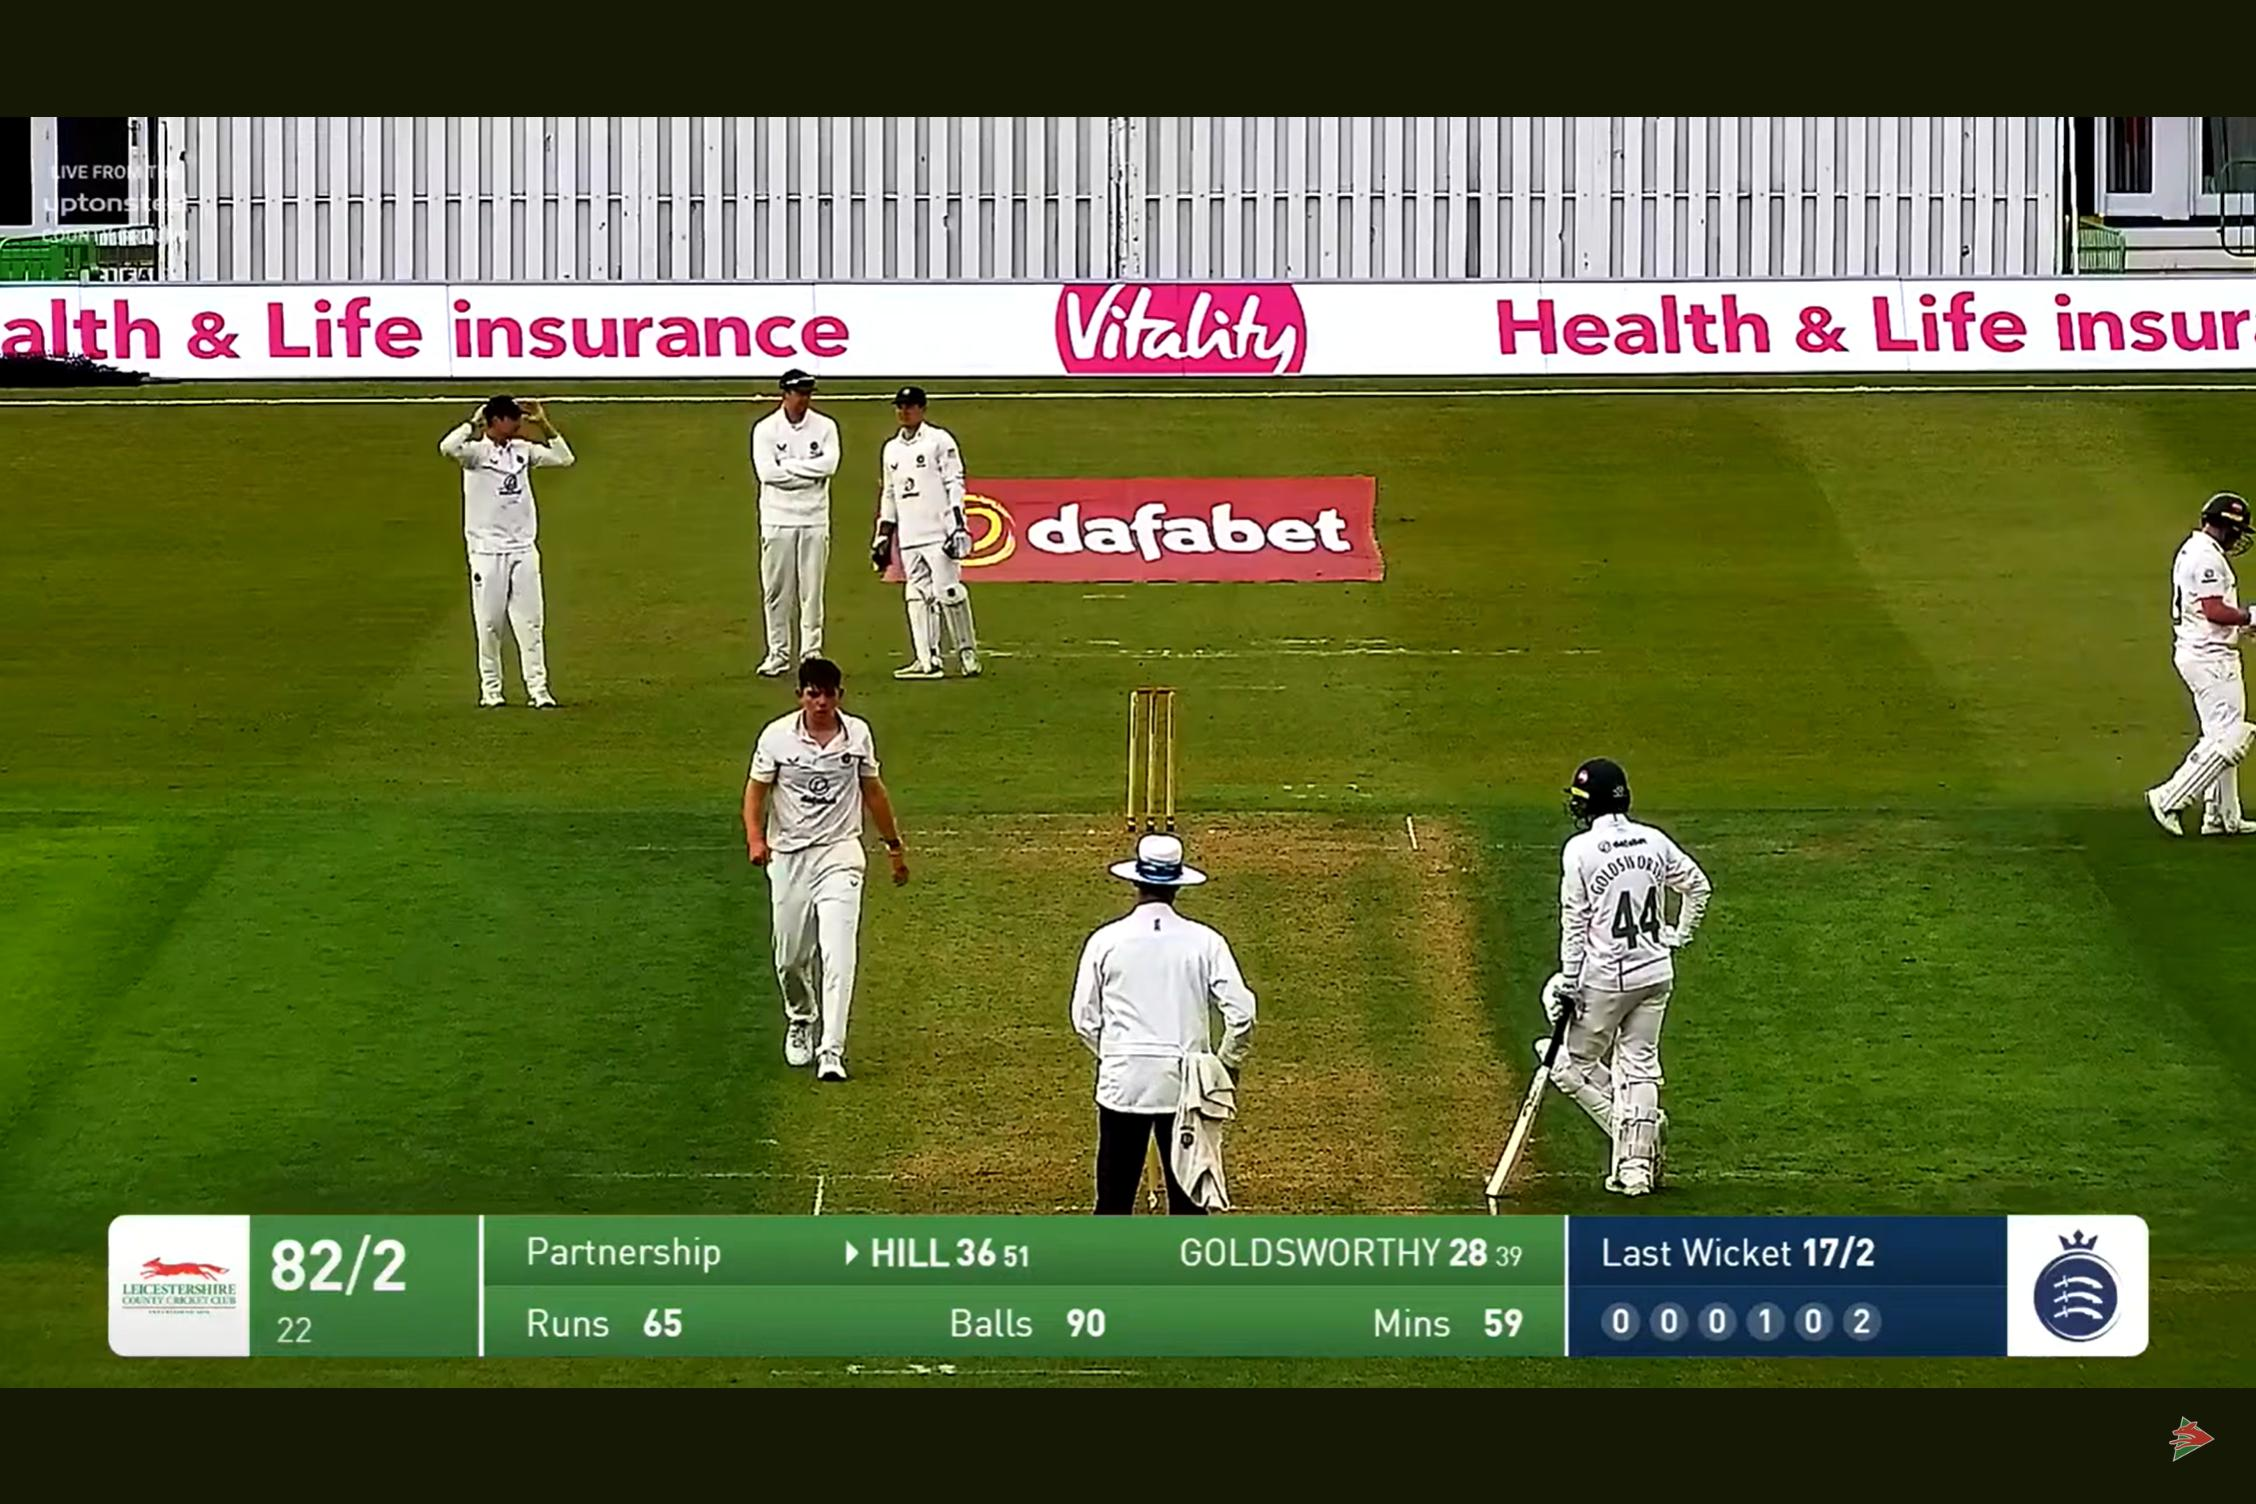bowler walking back: (722, 653, 925, 1081)
non striker: (1465, 744, 1732, 1197)
umpire: (1042, 822, 1271, 1205)
wicket keeper: (864, 373, 1000, 634)
